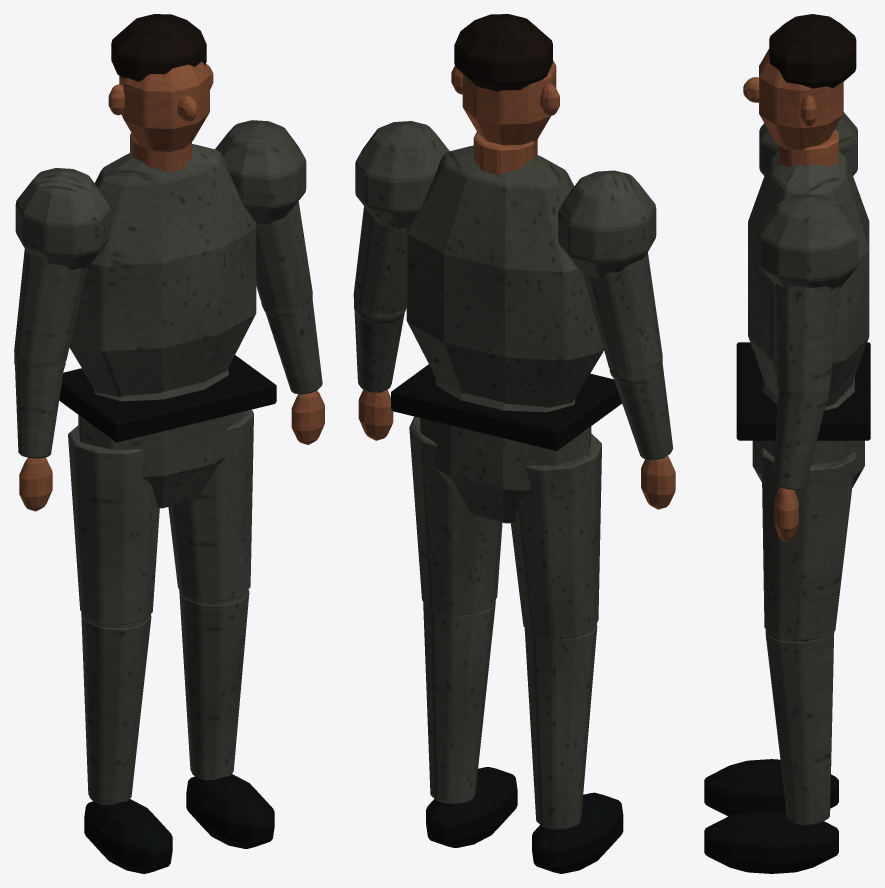
Rendered from PROP-6F42EC224460_lod1.glb.
The picture shows the model from 3 angles, left to right: view 1: azimuth 30°, elevation 25°; view 2: azimuth 150°, elevation 25°; view 3: azimuth 270°, elevation 25°; orthographic projection. The views are drawn at different scales.
Visible parts, largest first — view 1: torso.043, thigh.042, calf.042, shoulder.043, upper_arm.043, shoe.042, belt.042, pelvis.042, forearm.043, head.042, hair_cap.042, hand.042 (+3 smaller); view 2: torso.043, thigh.042, calf.042, shoulder.043, upper_arm.043, pelvis.042, shoe.042, belt.042, forearm.043, hair_cap.042, head.042, hand.042 (+3 smaller); view 3: thigh.042, torso.043, shoe.042, calf.042, shoulder.043, upper_arm.043, belt.042, hair_cap.042, head.042, forearm.043, pelvis.042, neck.042 (+3 smaller).
Boxes of the visible parts, x1=… form: torso.043: x1=69, y1=144, x2=256, y2=396; thigh.042: x1=68, y1=409, x2=253, y2=624; calf.042: x1=81, y1=590, x2=249, y2=804; shoulder.043: x1=15, y1=120, x2=306, y2=269; upper_arm.043: x1=14, y1=201, x2=312, y2=364; shoe.042: x1=84, y1=774, x2=274, y2=873; belt.042: x1=59, y1=355, x2=276, y2=442; pelvis.042: x1=78, y1=368, x2=243, y2=508; forearm.043: x1=15, y1=298, x2=322, y2=458; head.042: x1=119, y1=61, x2=209, y2=152; hair_cap.042: x1=111, y1=14, x2=206, y2=81; hand.042: x1=19, y1=390, x2=324, y2=511; torso.043: x1=406, y1=145, x2=603, y2=407; thigh.042: x1=409, y1=416, x2=601, y2=639; calf.042: x1=423, y1=601, x2=597, y2=829; shoulder.043: x1=355, y1=121, x2=656, y2=277; upper_arm.043: x1=353, y1=206, x2=662, y2=372; pelvis.042: x1=420, y1=378, x2=591, y2=523; shoe.042: x1=426, y1=767, x2=623, y2=873; belt.042: x1=391, y1=364, x2=621, y2=451; forearm.043: x1=354, y1=311, x2=672, y2=460; hair_cap.042: x1=454, y1=14, x2=552, y2=91; head.042: x1=462, y1=60, x2=556, y2=145; hand.042: x1=358, y1=389, x2=675, y2=509; thigh.042: x1=761, y1=448, x2=855, y2=640; torso.043: x1=748, y1=150, x2=869, y2=406; shoe.042: x1=704, y1=759, x2=838, y2=873; calf.042: x1=765, y1=629, x2=834, y2=825; shoulder.043: x1=759, y1=112, x2=857, y2=289; upper_arm.043: x1=775, y1=283, x2=839, y2=393; belt.042: x1=736, y1=342, x2=870, y2=440; hair_cap.042: x1=769, y1=14, x2=856, y2=88; head.042: x1=759, y1=48, x2=843, y2=150; forearm.043: x1=773, y1=393, x2=825, y2=489; pelvis.042: x1=752, y1=377, x2=864, y2=487; neck.042: x1=778, y1=129, x2=838, y2=166.
Size of the model in its own units: 0.7126 by 1.84 by 0.3357.
4 materials, 4 textured.
